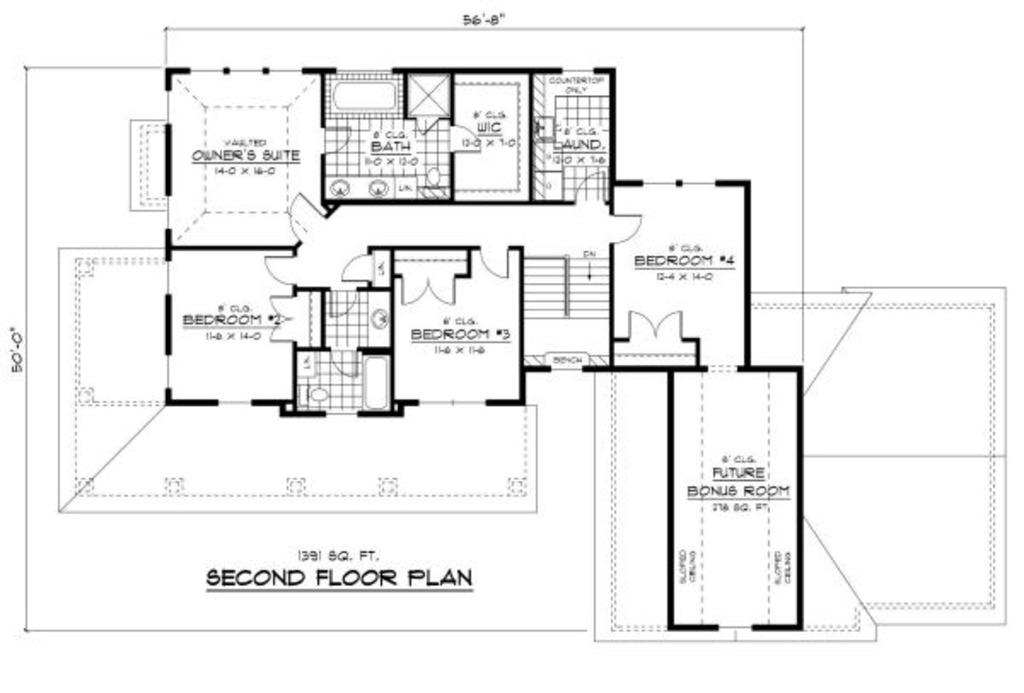door: (623, 307, 685, 346), (396, 271, 459, 305), (287, 189, 323, 245), (262, 253, 302, 289), (477, 243, 511, 281), (610, 210, 645, 246), (337, 254, 376, 284), (270, 294, 294, 341), (454, 121, 485, 156)
large_sink: (297, 379, 334, 409)
small_sink: (325, 173, 406, 201), (365, 290, 392, 351)
stairs: (519, 248, 616, 371)
tub: (326, 76, 406, 120), (362, 348, 394, 411)
windows: (184, 64, 309, 78), (635, 175, 715, 190), (408, 396, 487, 407), (711, 622, 759, 633)
